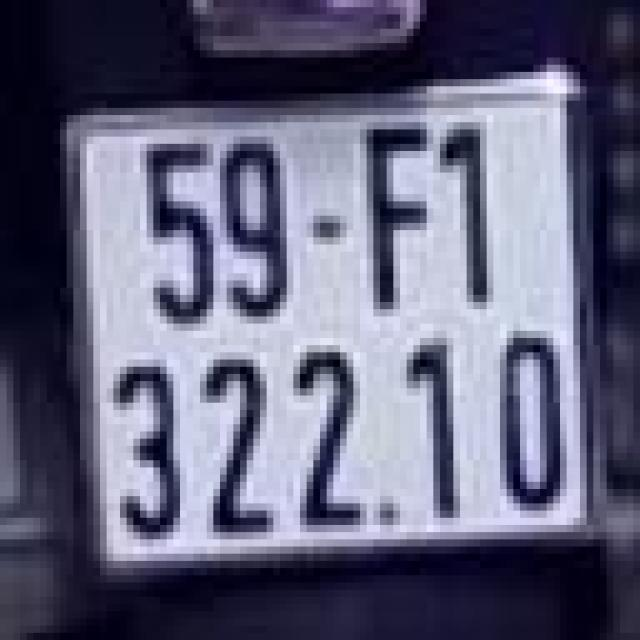0: (483, 316, 577, 518)
1: (400, 327, 473, 536), (450, 108, 497, 316)
2: (280, 331, 373, 546), (197, 327, 283, 550)
3: (107, 345, 200, 561)
5: (123, 133, 217, 327)
9: (210, 126, 310, 313)
F: (354, 104, 434, 327)
